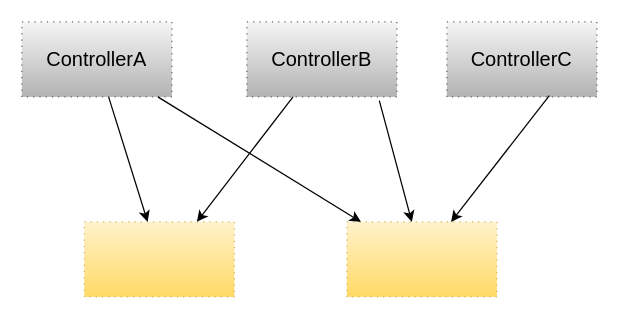
The diagram is 619 pixels wide and 319 high, and some of its shapes have lost their labels. Here are the shapes that lost their labels. From the top down, the centre of each, then its label:
the point at 158,259: ServiceX
the point at 421,259: ServiceY
